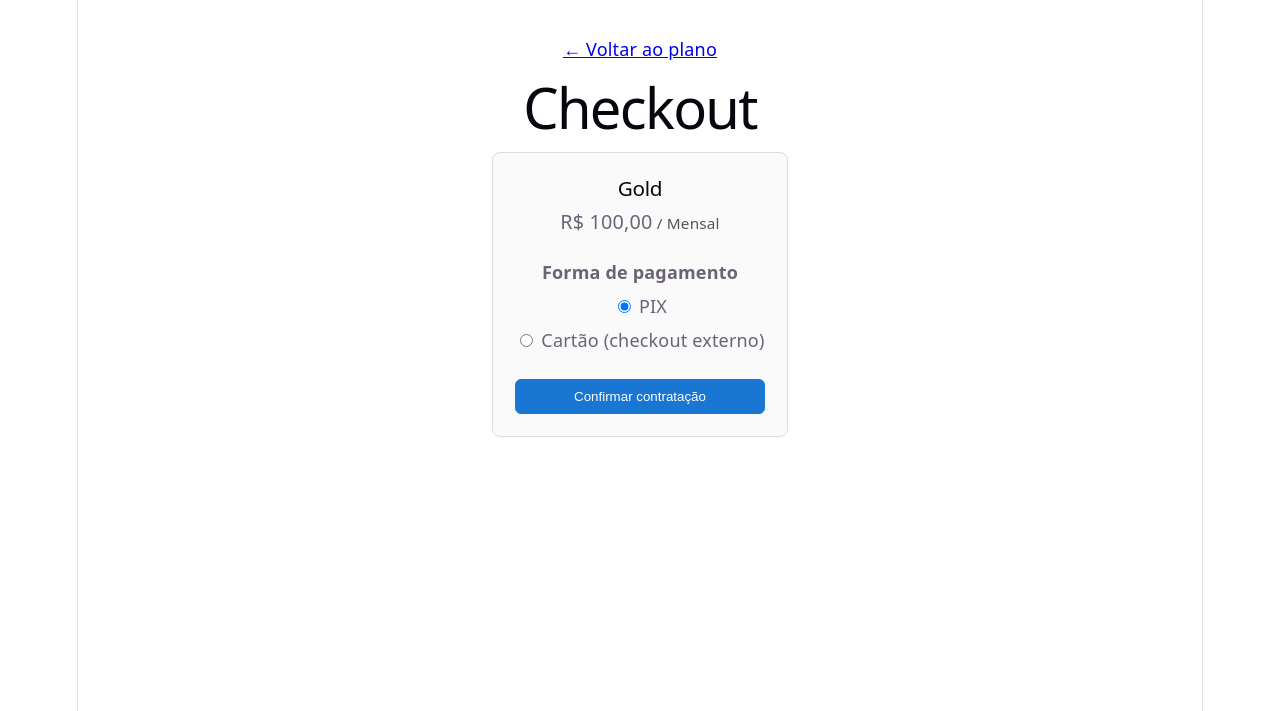
Scenario: SubscriptionCheckoutPage › loads plan and submits Pix subscription
The image size is (1280, 711).
Expected: the heading "Gold" is shown, x1=618 y1=174 x2=662 y2=202
Click the button "Confirmar contratação".
click(640, 396)  # box x1=516 y1=379 x2=764 y2=414
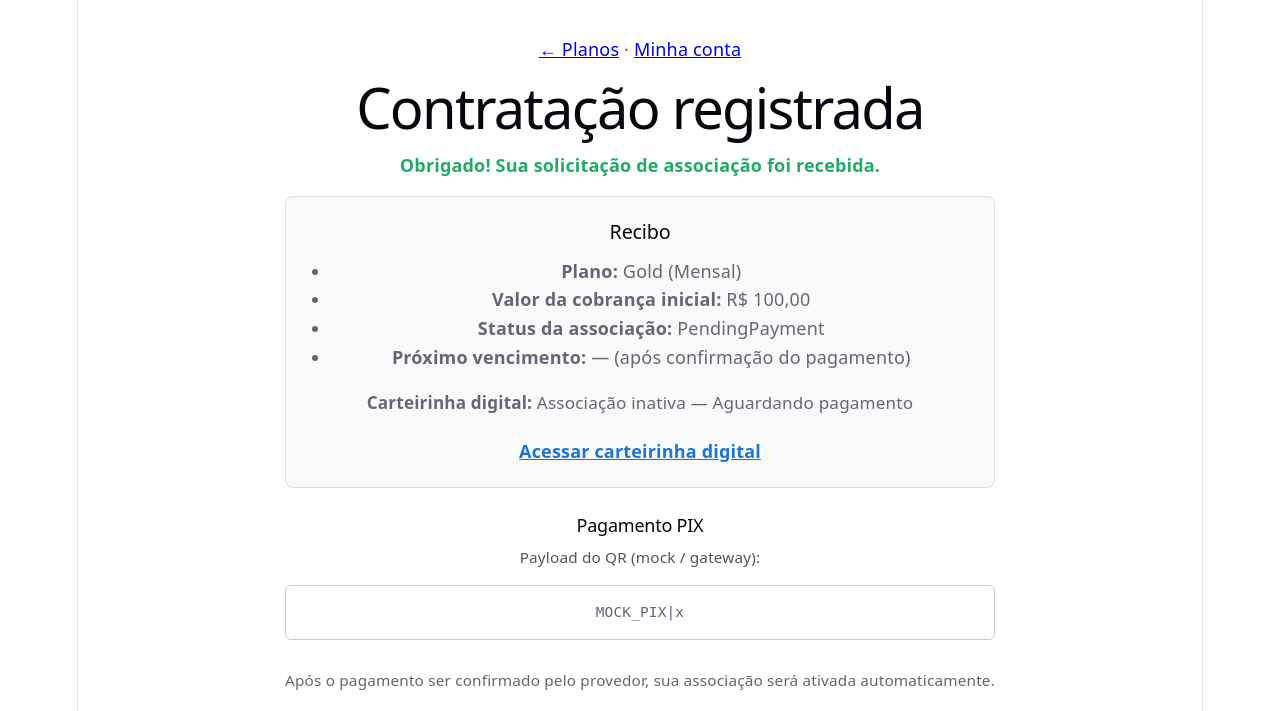
Expected: the heading "Contratação registrada" is shown, x1=356 y1=69 x2=924 y2=145
Expected: the text "MOCK_PIX|x" is shown, x1=285 y1=585 x2=995 y2=640
